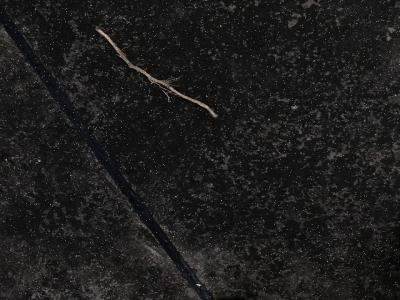Root: (96, 28, 217, 117)
